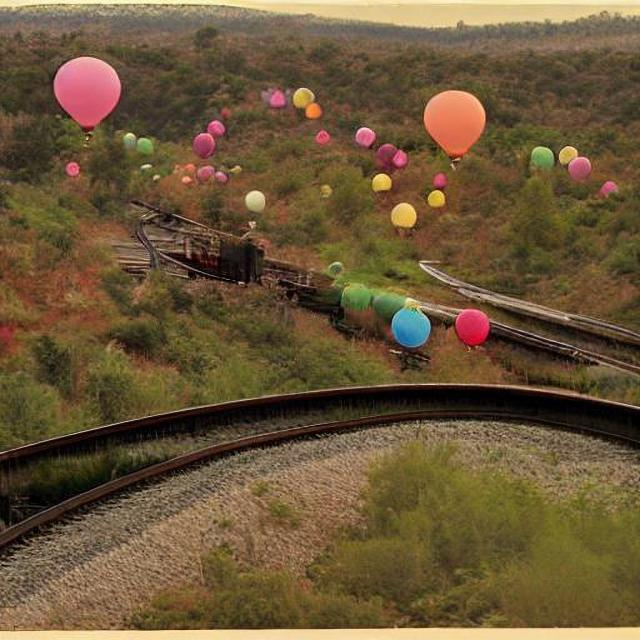balloon: (49, 55, 122, 127), (418, 87, 488, 159), (352, 124, 410, 184), (384, 300, 435, 358), (529, 142, 592, 184), (556, 146, 594, 192), (450, 307, 492, 347), (182, 128, 228, 163), (288, 90, 328, 128), (422, 169, 450, 210), (124, 134, 161, 163), (554, 144, 578, 186), (567, 154, 591, 189), (392, 202, 424, 227), (246, 192, 275, 216), (62, 154, 86, 178)
